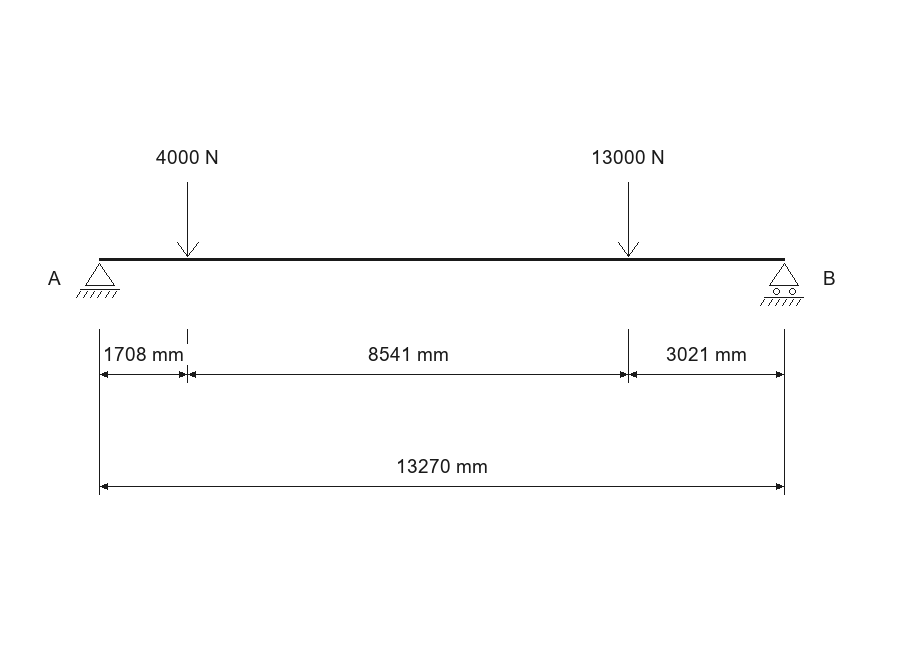pin_support: (76, 263, 120, 298)
point_load: (177, 182, 199, 257), (618, 182, 639, 257)
roller_support: (760, 263, 804, 306)
